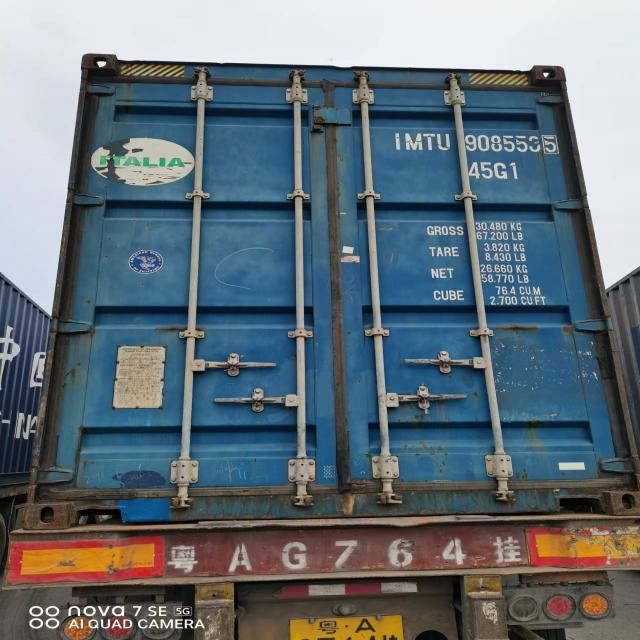ISO: (470, 162, 520, 182)
container_number: (394, 133, 559, 154)
